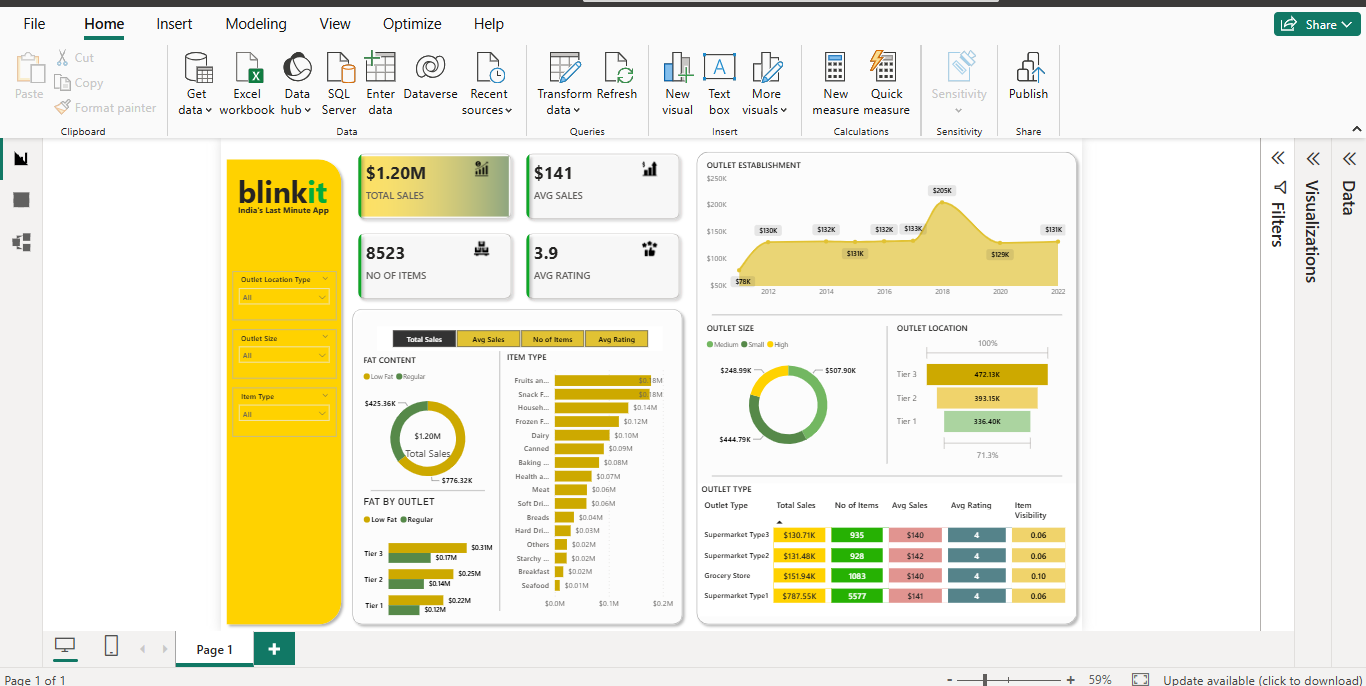

What the dashboard file says about the page in this screenshot:
{"tool":"powerbi","page":{"name":"Page 1","canvas":[1400,800],"ordinal":0},"visuals":[{"type":"shape","box":[0,25.4,204.5,774.1],"z":0},{"type":"textbox","box":[13.5,49,172.4,82.8],"z":1000},{"type":"textbox","box":[16.9,103.1,169,28.7],"z":2000},{"type":"cardVisual","fields":{"Data":["BlinkIT Grocery Data.Total Sales","BlinkIT Grocery Data.Avg Sales","BlinkIT Grocery Data.No of Items","BlinkIT Grocery Data.Avg Rating"]},"box":[206.2,8.5,557.7,270.4],"z":3000},{"type":"shape","box":[204.5,268.7,554.4,530.7],"z":4000},{"type":"donutChart","title":"FAT CONTENT","fields":{"Y":["BlinkIT Grocery Data.Total Sales"],"Category":["BlinkIT Grocery Data.Item Fat Content"]},"box":[226.5,351.5,219.7,229.9],"z":5000},{"type":"slicer","fields":{"Values":["Metrics.Metrics"]},"box":[253.5,305.9,464.8,40.6],"z":6000},{"type":"card","fields":{"Values":["BlinkIT Grocery Data.Total Sales"]},"box":[290.7,466.5,91.3,62.5],"z":7000},{"type":"clusteredBarChart","title":"FAT BY OUTLET","fields":{"Y":["BlinkIT Grocery Data.Total Sales"],"Category":["BlinkIT Grocery Data.Outlet Location Type"],"Series":["BlinkIT Grocery Data.Item Fat Content"]},"box":[226.5,581.4,219.7,218],"z":8000},{"type":"shape","box":[243.4,564.5,185.9,16.9],"z":9000},{"type":"shape","box":[446.2,346.5,13.5,422.5],"z":10000},{"type":"barChart","title":"ITEM TYPE","fields":{"Y":["BlinkIT Grocery Data.Total Sales"],"Category":["BlinkIT Grocery Data.Item Type"]},"box":[459.7,346.5,280.6,427.6],"z":11000},{"type":"shape","box":[763.9,13.5,635.5,785.9],"z":12000},{"type":"areaChart","title":"OUTLET ESTABLISHMENT","fields":{"Category":["BlinkIT Grocery Data.Outlet Establishment Year"],"Y":["BlinkIT Grocery Data.Total Sales"]},"box":[784.2,33.8,593.2,234.9],"z":13000},{"type":"donutChart","title":"OUTLET SIZE","fields":{"Y":["BlinkIT Grocery Data.Total Sales"],"Category":["BlinkIT Grocery Data.Outlet Size"]},"box":[784.2,299.1,275.5,224.8],"z":14000},{"type":"shape","box":[1071.5,305.9,22,223.1],"z":15000},{"type":"funnel","title":"OUTLET LOCATION","fields":{"Y":["Sum(BlinkIT Grocery Data.Sales)"],"Category":["BlinkIT Grocery Data.Outlet Location Type"]},"box":[1093.5,299.1,260.3,229.9],"z":16000},{"type":"shape","box":[797.7,278.9,569.6,16.9],"z":17000},{"type":"shape","box":[797.7,540.8,569.6,16.9],"z":18000},{"type":"pivotTable","title":"OUTLET TYPE","fields":{"Rows":["BlinkIT Grocery Data.Outlet Type"],"Values":["BlinkIT Grocery Data.Total Sales","BlinkIT Grocery Data.No of Items","BlinkIT Grocery Data.Avg Sales","BlinkIT Grocery Data.Avg Rating","Avg(BlinkIT Grocery Data.Item Visibility)"]},"box":[775.8,561.1,613.5,216.3],"z":19000},{"type":"slicer","fields":{"Values":["BlinkIT Grocery Data.Outlet Location Type"]},"box":[18.6,216.3,169,79.4],"z":20000},{"type":"slicer","fields":{"Values":["BlinkIT Grocery Data.Outlet Size"]},"box":[18.6,311,169,79.4],"z":21000},{"type":"slicer","fields":{"Values":["BlinkIT Grocery Data.Item Type"]},"box":[18.6,405.6,169,79.4],"z":21001}]}

Visuals, with their boxes on the page's 1400x800 design canvas (x1, y1, x2, y2). These are canvas units, not pixel positions in the 1366x686 screenshot, which may show the page scaled, cropped or inside an application window:
shape: bbox=(0, 25, 204, 800)
textbox: bbox=(14, 49, 186, 132)
textbox: bbox=(17, 103, 186, 132)
cardVisual - BlinkIT Grocery Data.Total Sales x BlinkIT Grocery Data.Avg Sales: bbox=(206, 8, 764, 279)
shape: bbox=(204, 269, 759, 799)
"FAT CONTENT" donutChart: bbox=(226, 352, 446, 581)
slicer - Metrics.Metrics: bbox=(254, 306, 718, 346)
card - BlinkIT Grocery Data.Total Sales: bbox=(291, 466, 382, 529)
"FAT BY OUTLET" clusteredBarChart: bbox=(226, 581, 446, 799)
shape: bbox=(243, 564, 429, 581)
shape: bbox=(446, 346, 460, 769)
"ITEM TYPE" barChart: bbox=(460, 346, 740, 774)
shape: bbox=(764, 14, 1399, 799)
"OUTLET ESTABLISHMENT" areaChart: bbox=(784, 34, 1377, 269)
"OUTLET SIZE" donutChart: bbox=(784, 299, 1060, 524)
shape: bbox=(1072, 306, 1094, 529)
"OUTLET LOCATION" funnel: bbox=(1094, 299, 1354, 529)
shape: bbox=(798, 279, 1367, 296)
shape: bbox=(798, 541, 1367, 558)
"OUTLET TYPE" pivotTable: bbox=(776, 561, 1389, 777)
slicer - BlinkIT Grocery Data.Outlet Location Type: bbox=(19, 216, 188, 296)
slicer - BlinkIT Grocery Data.Outlet Size: bbox=(19, 311, 188, 390)
slicer - BlinkIT Grocery Data.Item Type: bbox=(19, 406, 188, 485)
